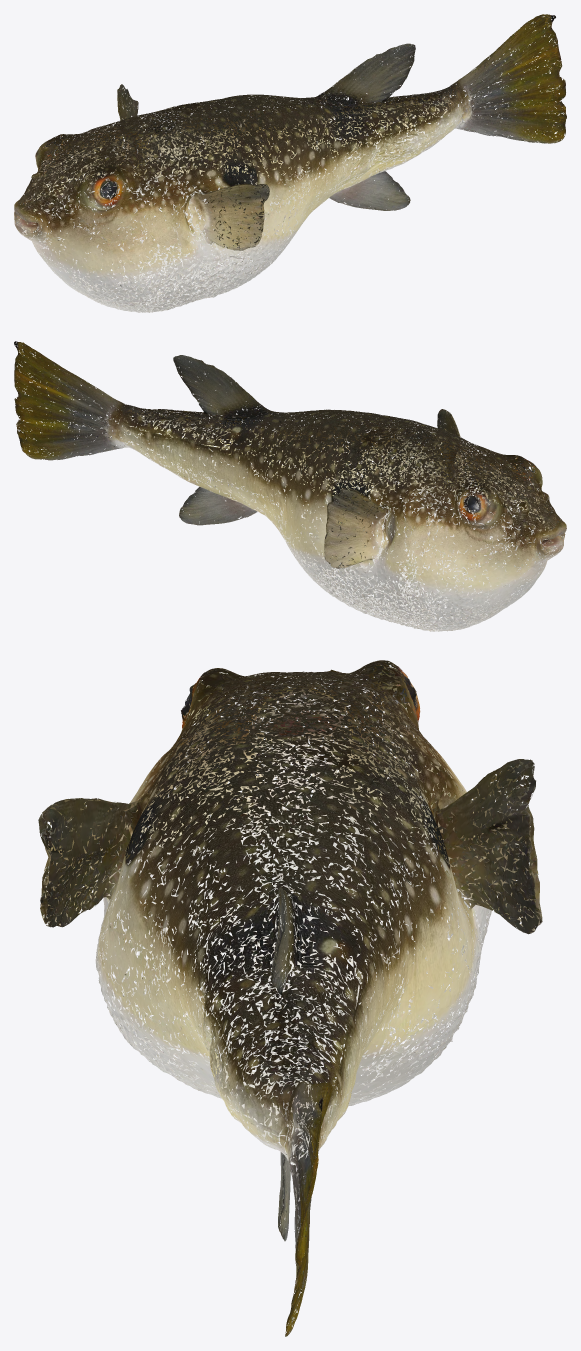
Rendered from puffer.glb.
3 renders of one model, top to bottom at view 1: azimuth 30°, elevation 25°; view 2: azimuth 150°, elevation 25°; view 3: azimuth 270°, elevation 25°, orthographic. The views are drawn at different scales.
Parts seen in each view (by area): view 1: Object_11, Object_6; view 2: Object_6, Object_11; view 3: Object_6, Object_11.
Boxes of the visible parts, x1,y1,x2,y2 form: Object_11: (14,14,566,312); Object_6: (14,14,566,312); Object_6: (14,342,566,631); Object_11: (14,341,566,631); Object_6: (38,661,542,1336); Object_11: (38,660,542,1336).
Size of the model in its own units: 7.35 by 2.47 by 2.93.
2 materials, 2 textured.
